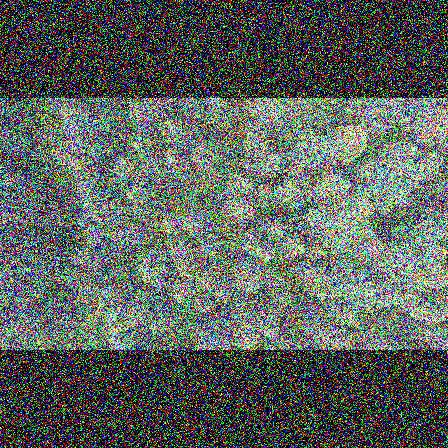Sick: (165, 237, 194, 267), (196, 230, 224, 259), (208, 278, 233, 305), (128, 128, 153, 154), (257, 241, 279, 262), (110, 164, 129, 187), (272, 286, 293, 306)
